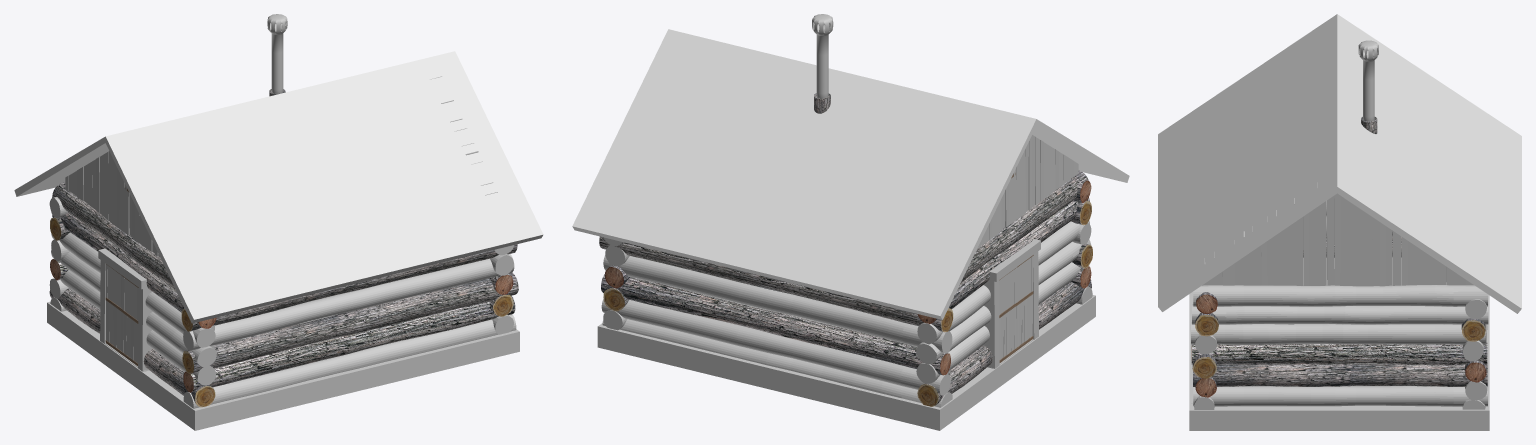
File: baita.fbx
The picture shows the model from 3 angles, left to right: view 1: azimuth 30°, elevation 25°; view 2: azimuth 150°, elevation 25°; view 3: azimuth 270°, elevation 25°; orthographic projection. The views are drawn at different scales.
Parts seen in each view (by area): view 1: Plane.001, Cube, Cylinder.002_Cylinder.001, Cylinder.004_Cylinder.003, Cylinder.001_Cylinder.002, Cylinder.003_Cylinder.004, Cylinder.002_Cylinder.004, Cylinder.002_Cylinder.005, Cylinder.002_Cylinder.003, Cylinder.001_Cylinder.003, Cylinder.004_Cylinder.002, Cylinder.003_Cylinder.001 (+4 smaller); view 2: Plane.001, Cube, Cylinder.001_Cylinder.001, Cylinder.003_Cylinder.002, Cylinder.004_Cylinder.000, Cylinder.003_Cylinder.000, Cylinder.002_Cylinder.002, Cylinder.002_Cylinder.003, Cylinder.002_Cylinder.005, Cylinder.001_Cylinder.003, Cylinder.004_Cylinder.002, Cylinder.003_Cylinder.001 (+6 smaller); view 3: Plane.001, Cube, Cylinder.004_Cylinder.004, Cylinder.002_Cylinder.000, Cylinder.001_Cylinder.000, Cylinder.002, Cylinder.004_Cylinder.005, Cylinder.003_Cylinder.003, Cylinder.044_Cylinder.047, Cube.090, Cube.083, Cube_Cube.013 (+26 smaller).
Boxes of the visible parts, left/top/right/bottom form: Plane.001: left=14, top=51, right=543, bottom=323; Cube: left=47, top=301, right=519, bottom=430; Cylinder.002_Cylinder.001: left=182, top=273, right=518, bottom=373; Cylinder.004_Cylinder.003: left=183, top=254, right=514, bottom=350; Cylinder.001_Cylinder.002: left=183, top=295, right=515, bottom=392; Cylinder.003_Cylinder.004: left=183, top=314, right=516, bottom=408; Cylinder.002_Cylinder.004: left=181, top=244, right=517, bottom=331; Cylinder.002_Cylinder.005: left=52, top=182, right=175, bottom=290; Cylinder.002_Cylinder.003: left=49, top=288, right=215, bottom=407; Cylinder.001_Cylinder.003: left=52, top=212, right=216, bottom=328; Cylinder.004_Cylinder.002: left=51, top=232, right=215, bottom=347; Cylinder.003_Cylinder.001: left=51, top=250, right=216, bottom=367; Plane.001: left=572, top=29, right=1129, bottom=319; Cube: left=597, top=295, right=1095, bottom=430; Cylinder.001_Cylinder.001: left=601, top=274, right=950, bottom=375; Cylinder.003_Cylinder.002: left=603, top=255, right=952, bottom=353; Cylinder.004_Cylinder.000: left=601, top=299, right=950, bottom=395; Cylinder.003_Cylinder.000: left=602, top=319, right=952, bottom=407; Cylinder.002_Cylinder.002: left=599, top=236, right=953, bottom=332; Cylinder.002_Cylinder.003: left=917, top=279, right=1091, bottom=406; Cylinder.002_Cylinder.005: left=961, top=170, right=1089, bottom=282; Cylinder.001_Cylinder.003: left=917, top=197, right=1089, bottom=323; Cylinder.004_Cylinder.002: left=917, top=220, right=1089, bottom=344; Cylinder.003_Cylinder.001: left=916, top=239, right=1090, bottom=364; Plane.001: left=1158, top=14, right=1521, bottom=313; Cube: left=1189, top=257, right=1489, bottom=430; Cylinder.004_Cylinder.004: left=1193, top=284, right=1487, bottom=306; Cylinder.002_Cylinder.000: left=1193, top=363, right=1487, bottom=386; Cylinder.001_Cylinder.000: left=1191, top=342, right=1487, bottom=365; Cylinder.002: left=1191, top=322, right=1485, bottom=344; Cylinder.004_Cylinder.005: left=1193, top=385, right=1487, bottom=406; Cylinder.003_Cylinder.003: left=1192, top=304, right=1488, bottom=324; Cylinder.044_Cylinder.047: left=1358, top=40, right=1378, bottom=121; Cube.090: left=1408, top=241, right=1430, bottom=285; Cube.083: left=1340, top=196, right=1349, bottom=285; Cube_Cube.013: left=1356, top=206, right=1365, bottom=286.
Bounding box in the file's own units: 11.86 × 9.99 × 10.55.
